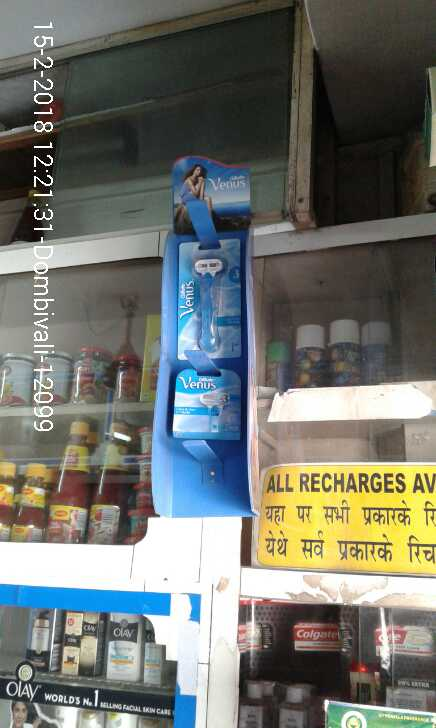beauty: (181, 241, 244, 362), (172, 369, 244, 445), (108, 615, 140, 681), (25, 609, 48, 671), (61, 610, 78, 674), (83, 612, 97, 670)
